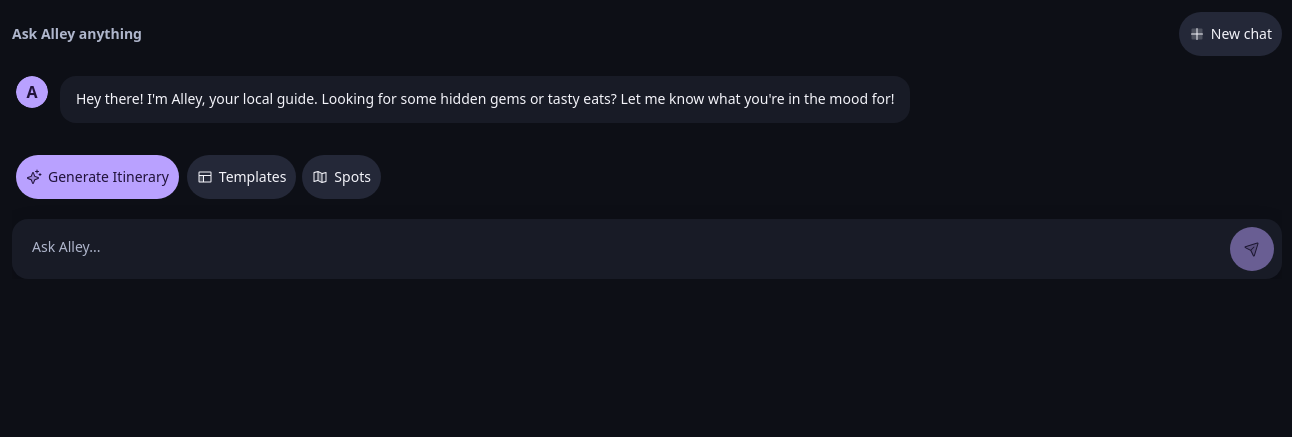
Test: persisted chat exchange › scrolls only the message pane on initial load and reply, leaving parent navigation in place
Type "Hello Alley" into the text box with id "chat-input" at (621, 249), box [20,227,1222,271]
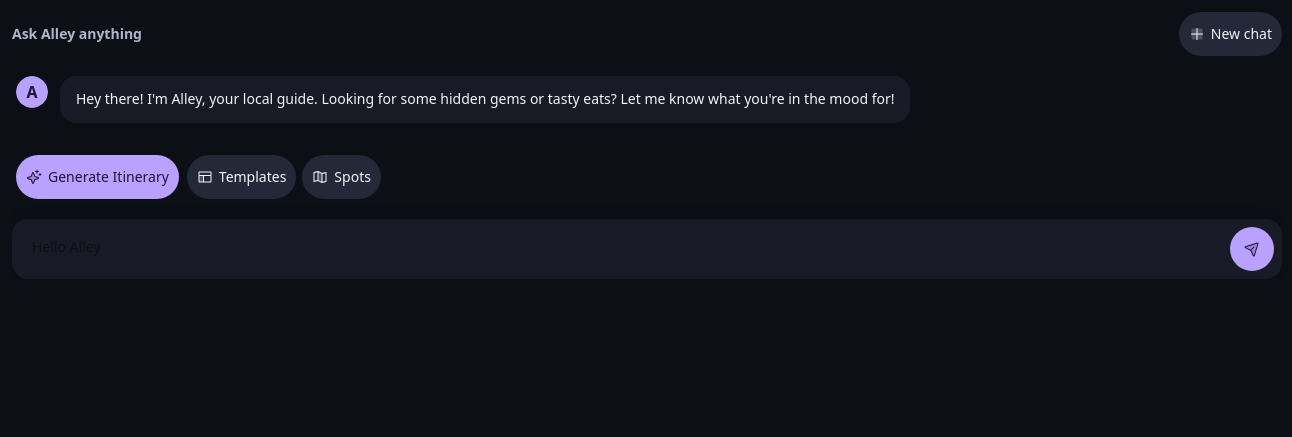
Click the button named "Send message" at (1252, 249), box [1230,227,1274,271]
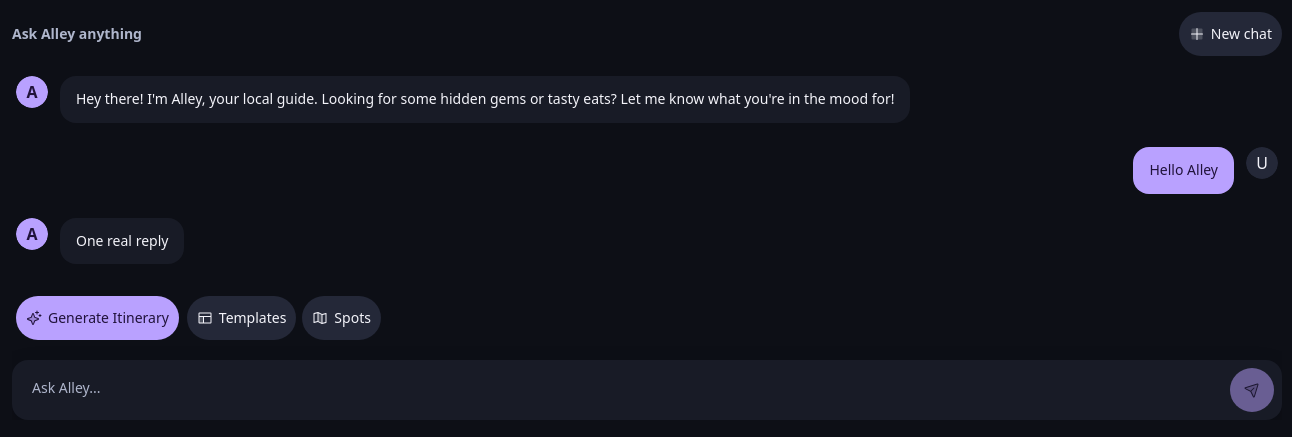
Check: the text "One real reply" is shown, box [76,230,168,252]
